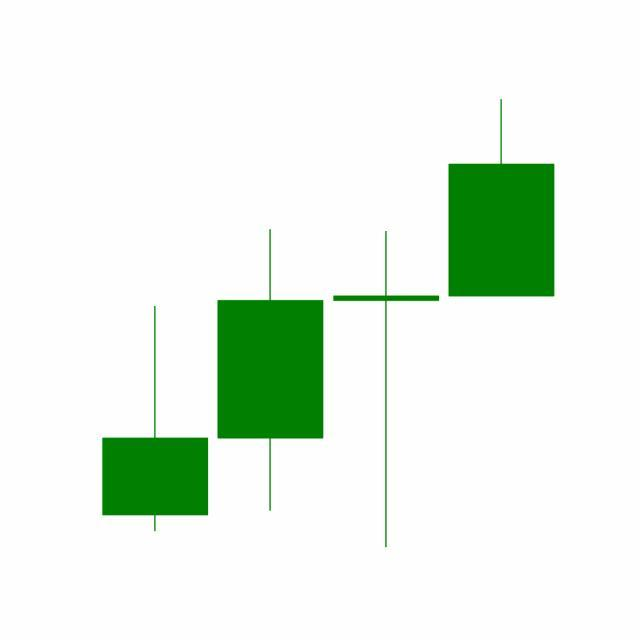Spinning Top: (329, 228, 445, 552)
